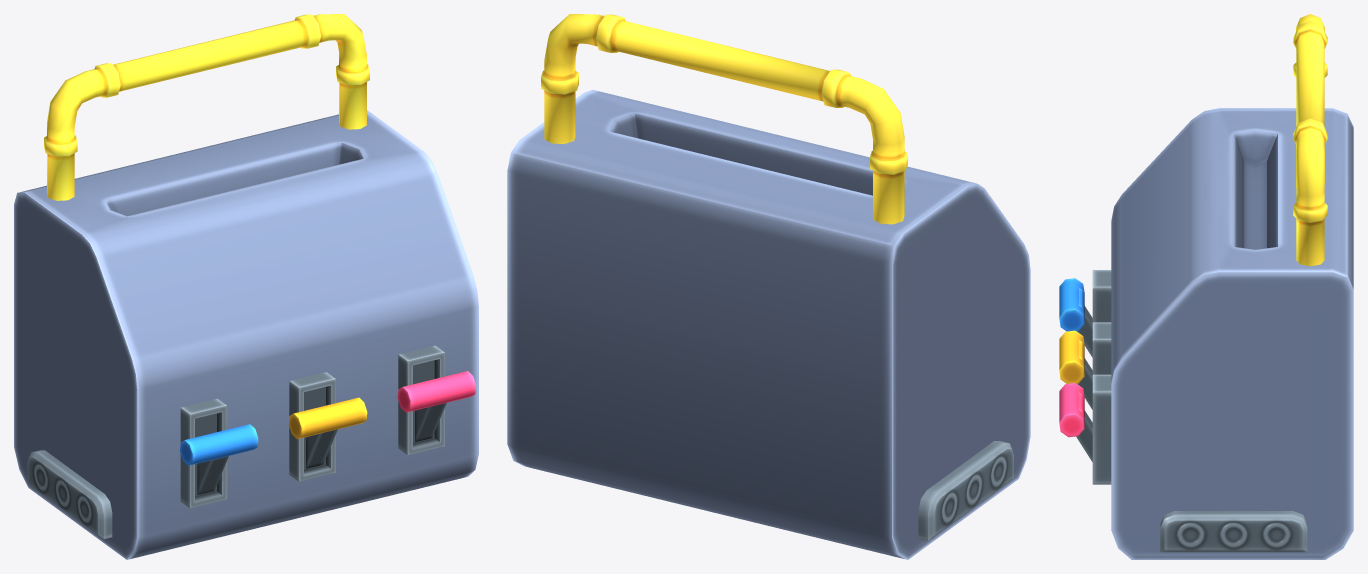
Rendered from obj_terminal.gltf.
3 views of the same model, side by side, from view 1: azimuth 30°, elevation 25°; view 2: azimuth 150°, elevation 25°; view 3: azimuth 270°, elevation 25° (orthographic). The views are drawn at different scales.
Visible parts, largest first — view 1: obj_terminal.002; view 2: obj_terminal.002; view 3: obj_terminal.002.
Boxes of the visible parts, bbox=[...] form: obj_terminal.002: bbox=[14, 14, 478, 559]; obj_terminal.002: bbox=[507, 14, 1030, 559]; obj_terminal.002: bbox=[1059, 14, 1353, 559].
Size of the model in its own units: 1.45 by 1.56 by 1.03.
2 materials, 2 textured.
